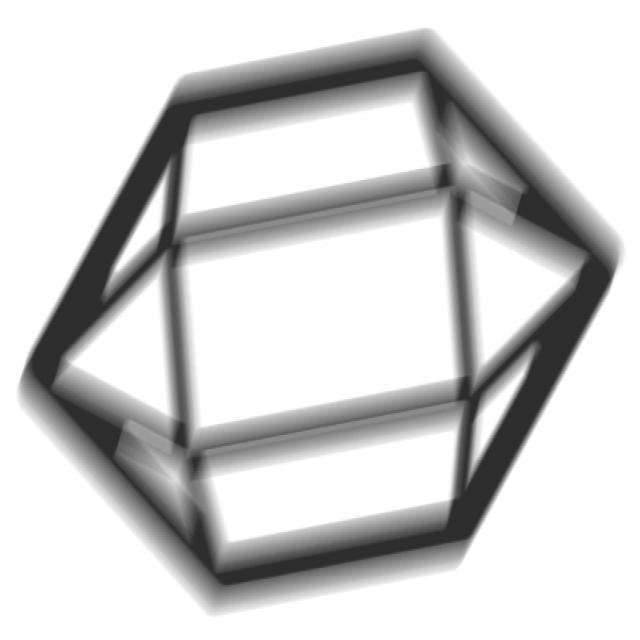crystal: (6, 18, 640, 630)
